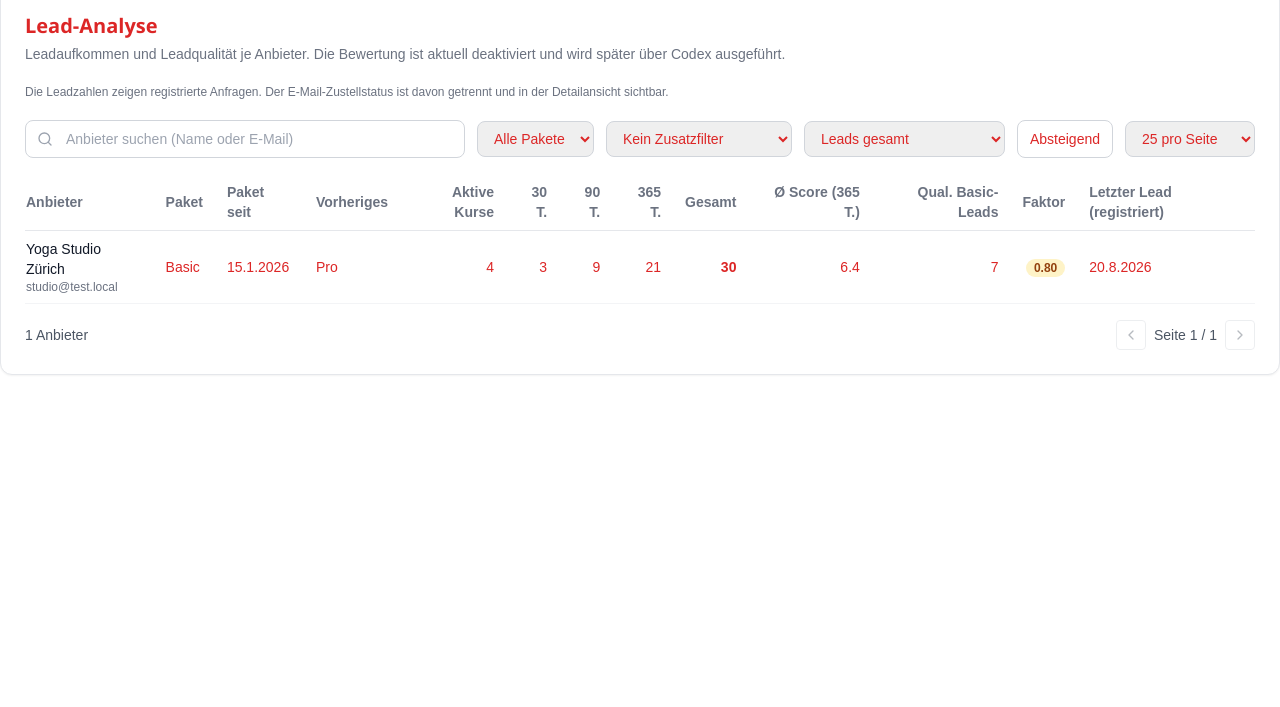
Test case: Anbieterdetail › zeigt den vollständigen Paketverlauf inklusive laufender Periode
The width and height of the screenshot is (1280, 707).
Step 1. Click the text "Yoga Studio Zürich" → x=64, y=259, box [26,241,101,277]
(page scrolled)
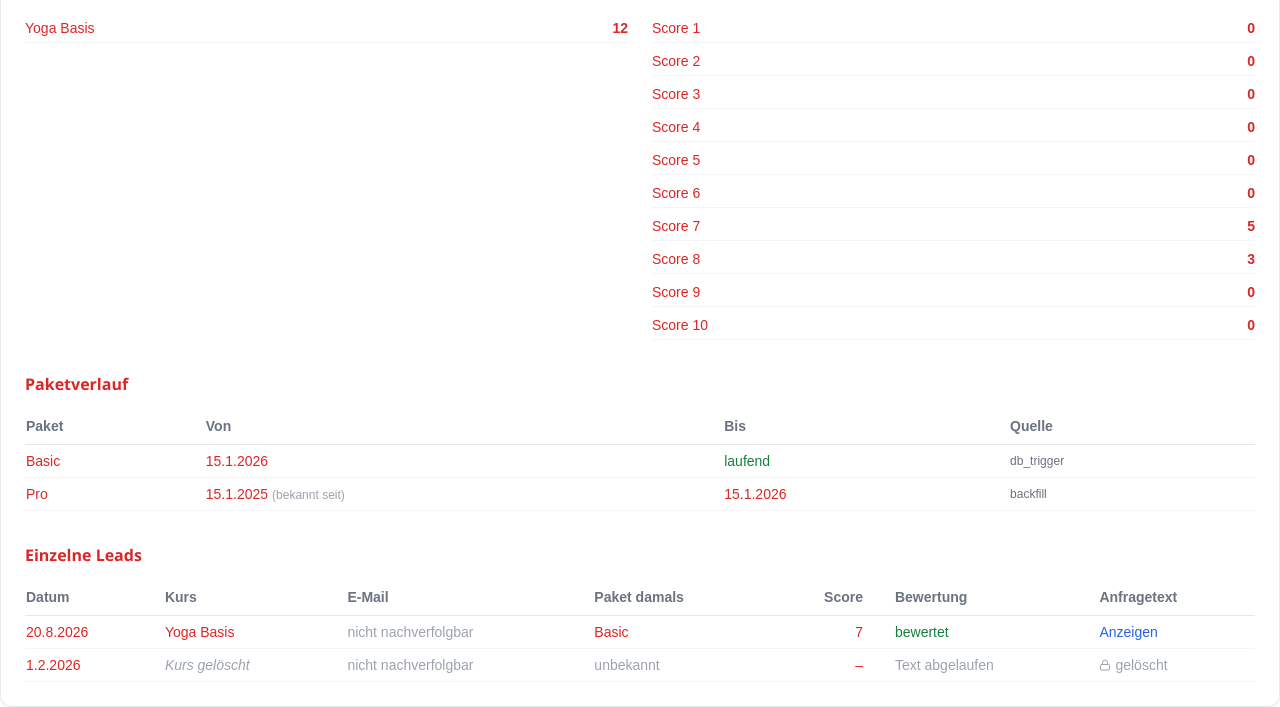
Expected: the heading "Paketverlauf" is shown, [25,373,128,395]
Expected: the text "laufend" is shown, [724,453,770,469]
Expected: the text "backfill" is shown, [994,478,1255,510]
